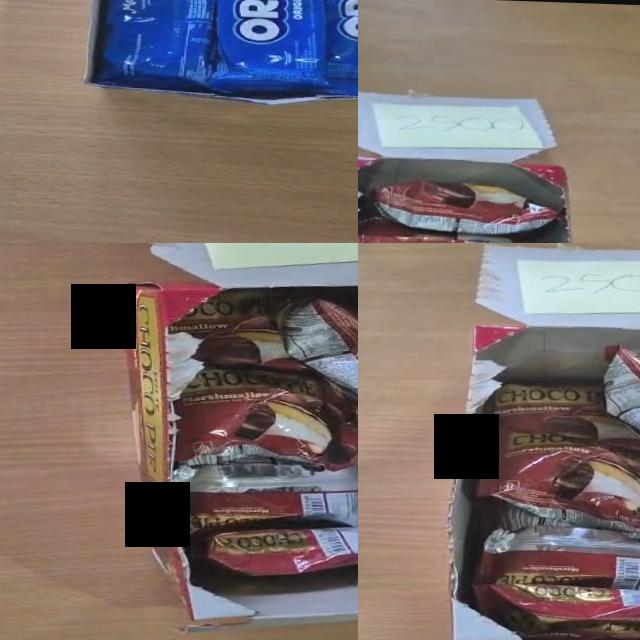Chocopie: (167, 366, 358, 477), (476, 427, 640, 538), (168, 453, 358, 541), (472, 522, 640, 596), (165, 287, 312, 371), (187, 514, 358, 585), (364, 176, 564, 236), (272, 295, 358, 418), (488, 381, 640, 448), (471, 582, 640, 640), (499, 500, 640, 548), (358, 215, 571, 243), (597, 343, 640, 480)
Oreo: (205, 0, 336, 97), (93, 0, 224, 95)
